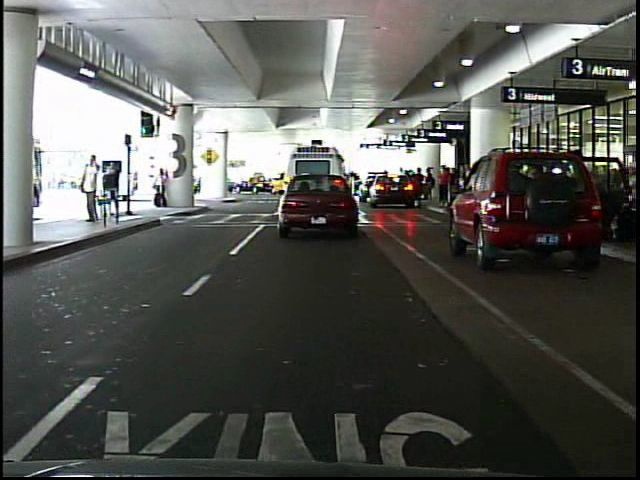person: (79, 151, 105, 228), (105, 157, 122, 220), (152, 167, 171, 211), (436, 164, 452, 207), (194, 165, 209, 203)
